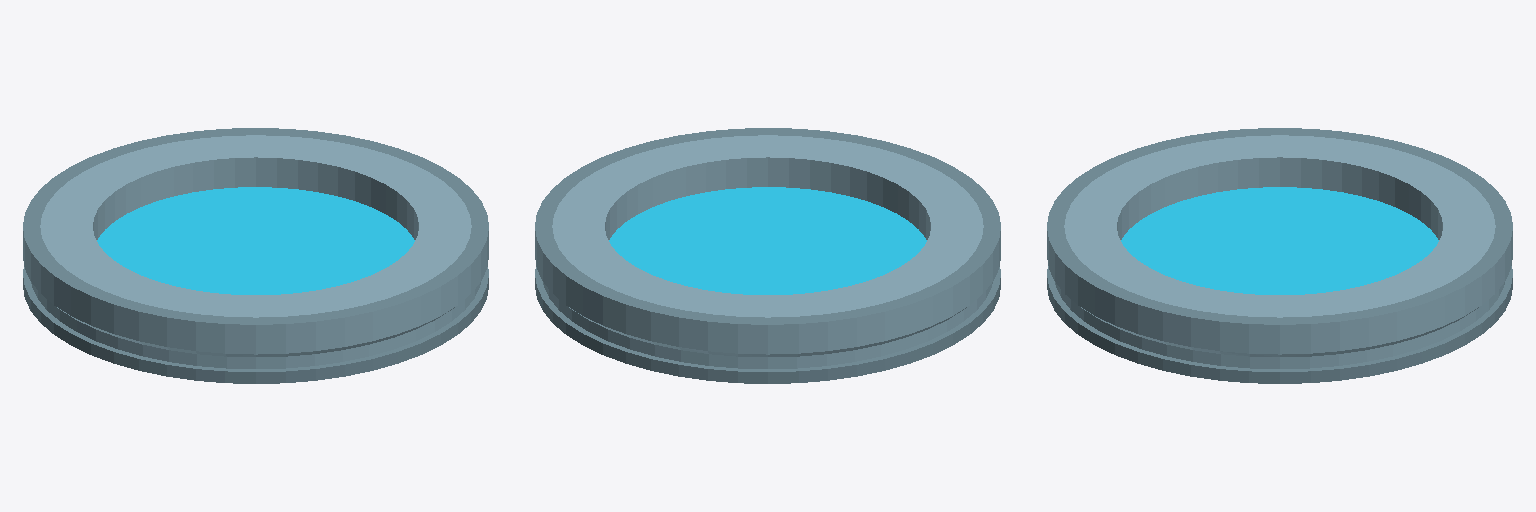
File: fountainRound.obj
3 views of the same model, side by side, from view 1: azimuth 30°, elevation 25°; view 2: azimuth 150°, elevation 25°; view 3: azimuth 270°, elevation 25° (orthographic).
Visible parts, largest first — view 1: fountainRound; view 2: fountainRound; view 3: fountainRound.
Part boxes in pixels (x1,y1,x2,y2): fountainRound: (23, 128, 488, 383); fountainRound: (535, 128, 1000, 383); fountainRound: (1047, 128, 1512, 383).
Bounding box in the file's own units: 2 × 0.28 × 2.